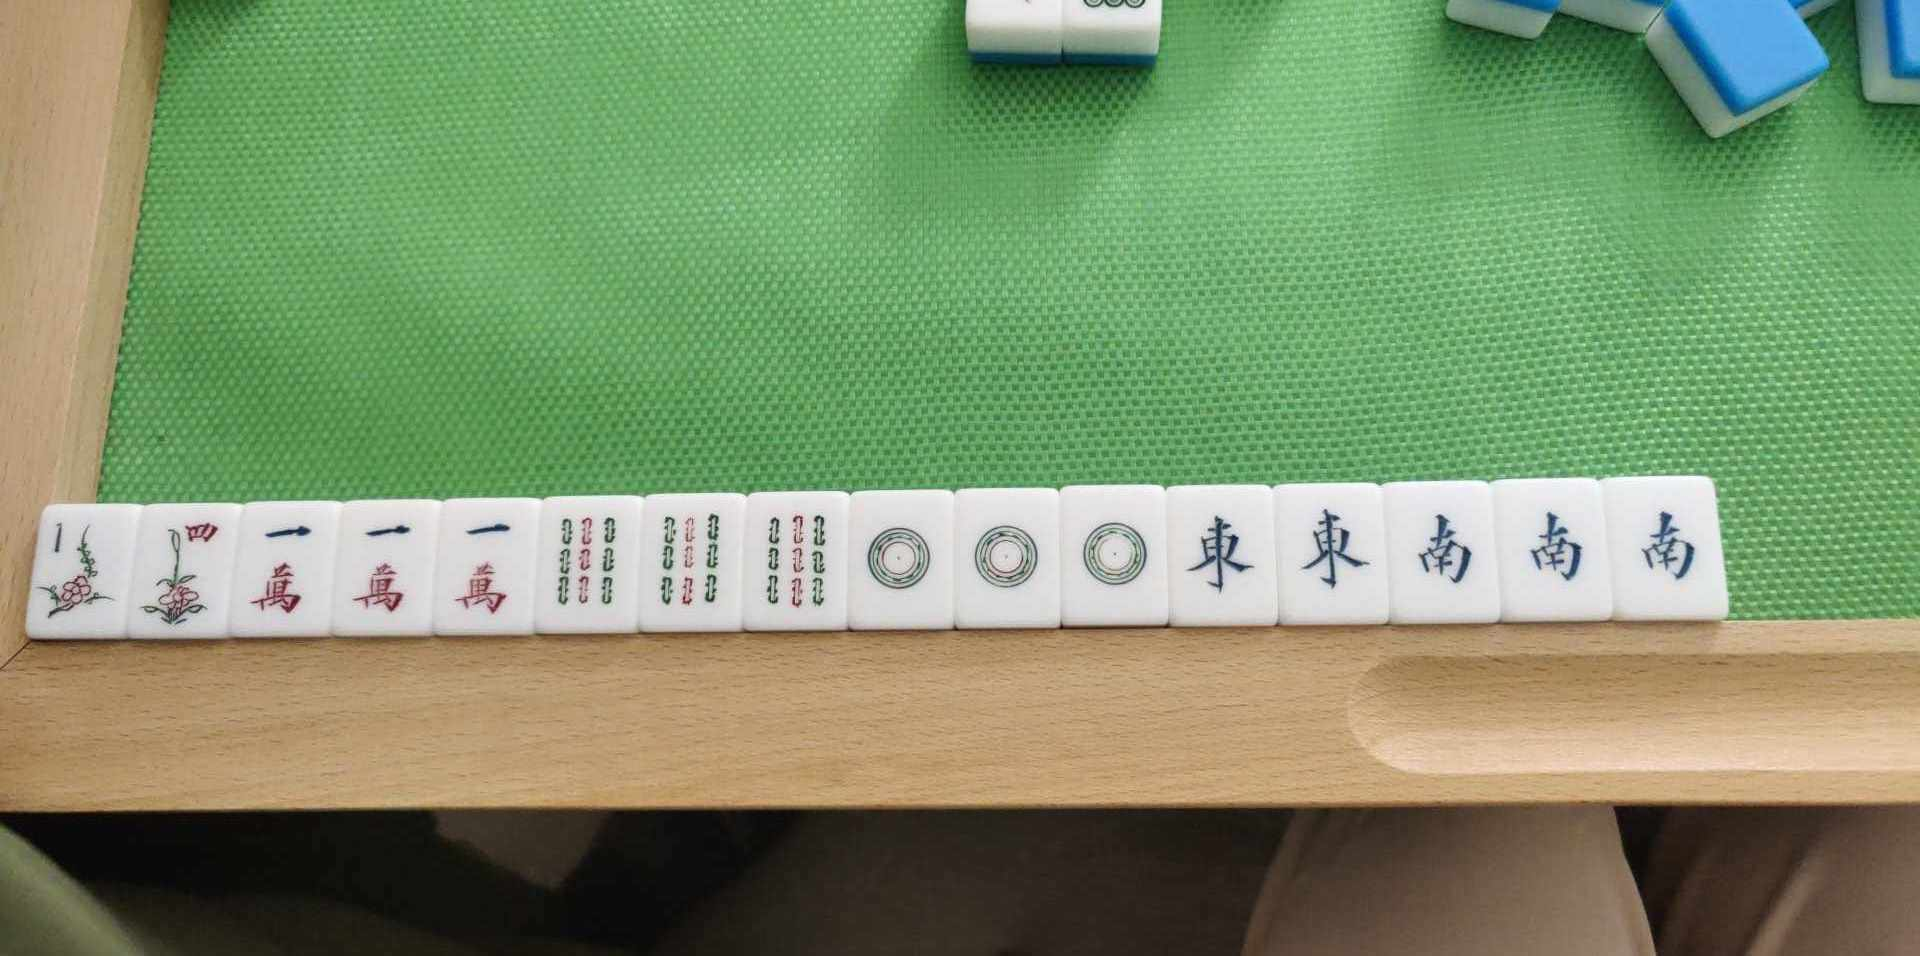bamboo-nine: (746, 499, 842, 630), (645, 498, 740, 630), (542, 504, 636, 632)
character-one: (440, 506, 536, 633), (233, 509, 329, 633), (340, 508, 432, 630)
circle-one: (1067, 492, 1161, 624), (853, 497, 949, 624), (961, 496, 1056, 623)
flower-blue_one: (40, 506, 120, 633)
flower-red_four: (138, 508, 227, 634)
honor-east_wind: (1284, 488, 1381, 622), (1174, 491, 1269, 623)
honor-south_wind: (1615, 482, 1714, 614), (1504, 484, 1598, 617), (1395, 486, 1487, 621)
